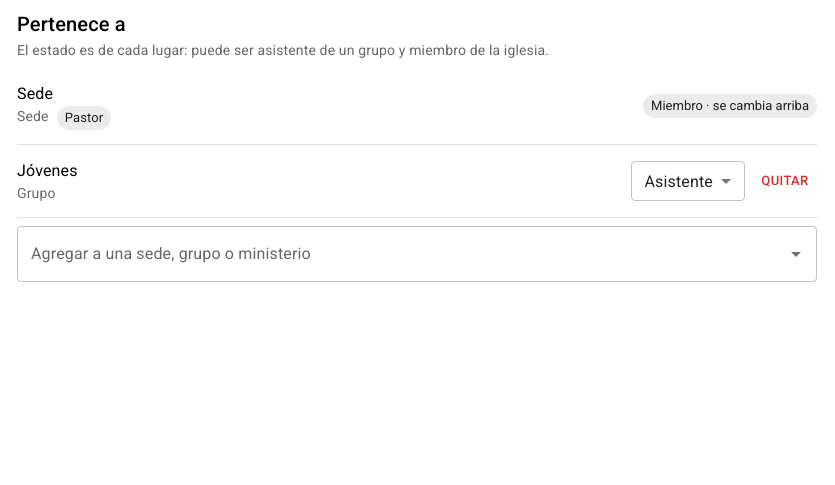
Test: PersonMemberships › offers only the places of the church where they are not yet
This screenshot has width=835, height=485.
Click the dropdown labelled "Agregar a una sede, grupo o ministerio" at x=402, y=254, box [26, 235, 778, 273]
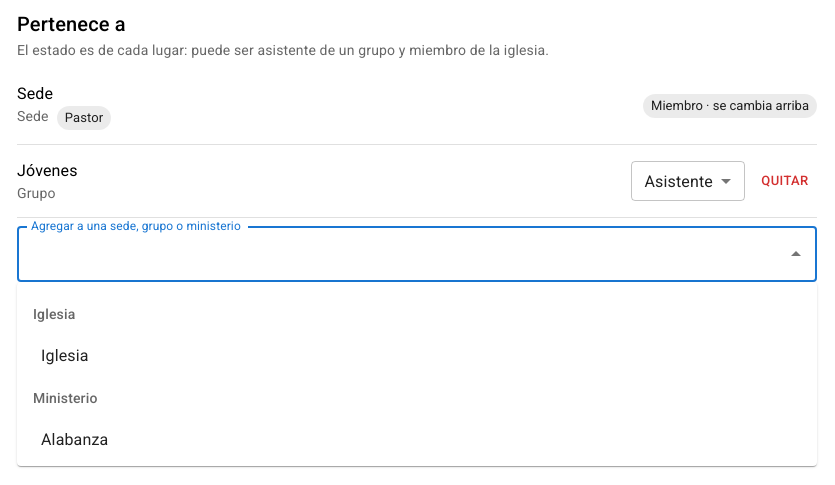
Result: the option "Iglesia" is shown at [41, 346, 89, 365]
Result: the option "Alabanza" is shown at [41, 430, 108, 449]
